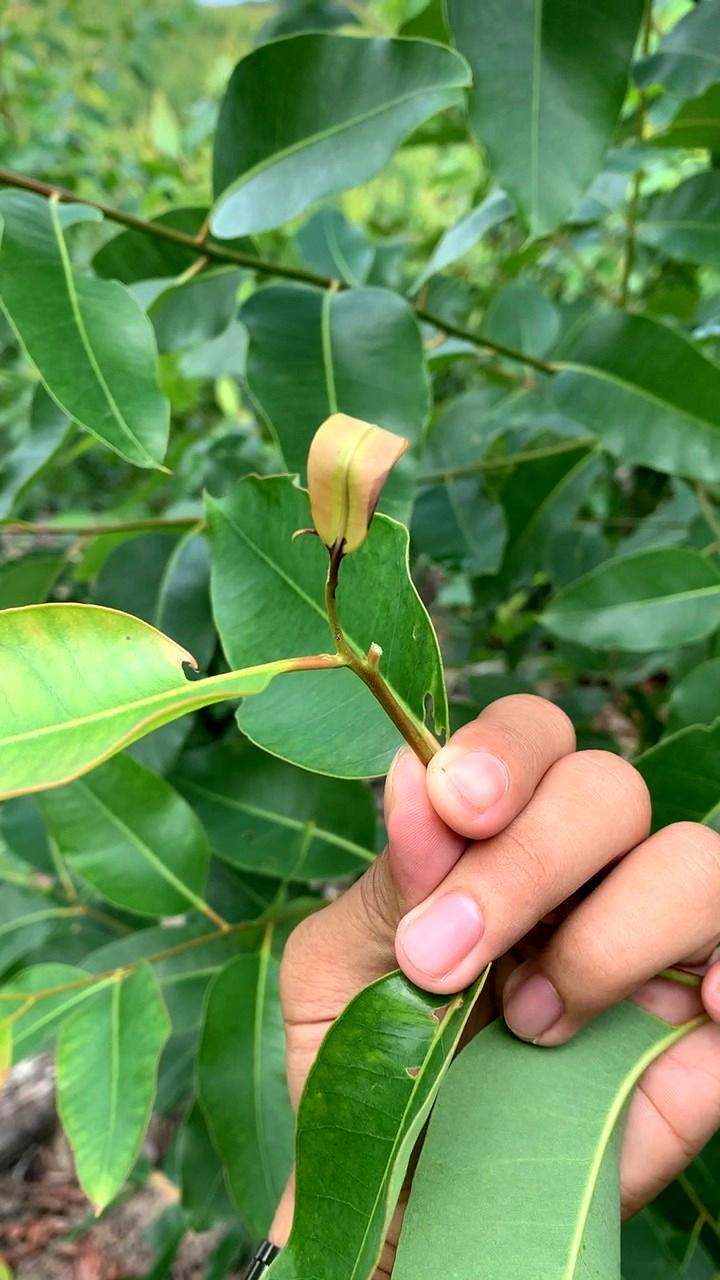Helopeltis-Withered Sprout: (306, 410, 401, 560)
